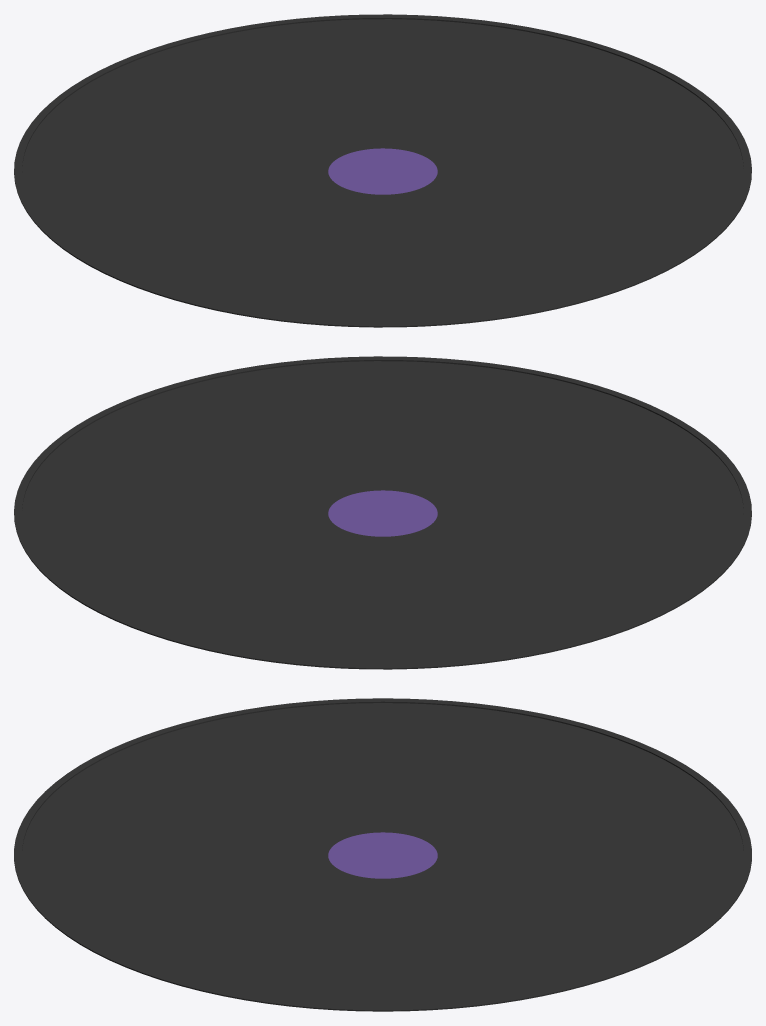
File: Round Ground.FBX
3 renders of one model, top to bottom at view 1: azimuth 30°, elevation 25°; view 2: azimuth 150°, elevation 25°; view 3: azimuth 270°, elevation 25°, orthographic.
Parts seen in each view (by area): view 1: Cylinder056; view 2: Cylinder056; view 3: Cylinder056.
Part boxes in pixels (x1,y1,x2,y2): Cylinder056: [14, 14, 751, 327]; Cylinder056: [14, 356, 751, 669]; Cylinder056: [14, 698, 751, 1011].
Size of the model in its own units: 281 by 0.5157 by 280.
